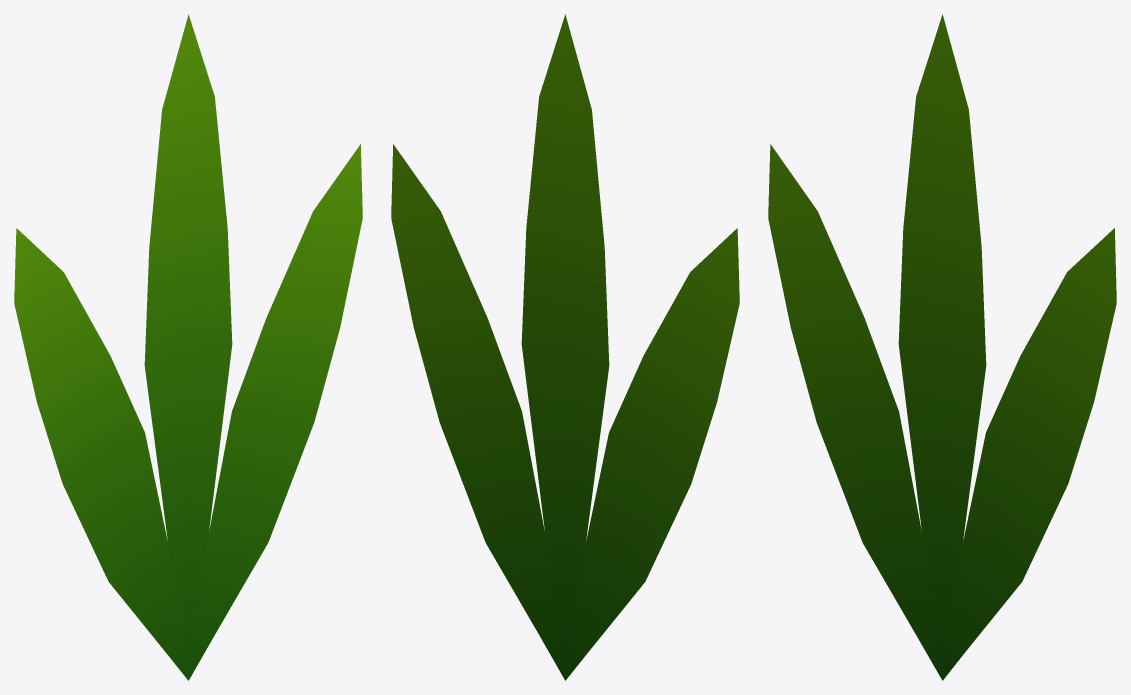
Rendered from grass_3.glb.
3 views of the same model, side by side, from view 1: azimuth 30°, elevation 25°; view 2: azimuth 150°, elevation 25°; view 3: azimuth 330°, elevation 25° (orthographic).
Visible parts, largest first — view 1: grass_3; view 2: grass_3; view 3: grass_3.
Part boxes in pixels (bbox=[...]): grass_3: bbox=[14, 14, 362, 680]; grass_3: bbox=[391, 14, 739, 680]; grass_3: bbox=[768, 14, 1116, 680].
Size of the model in its own units: 0.3167 by 0.5788 by 9.54e-07.
Materials: 1 (1 with a texture image).
